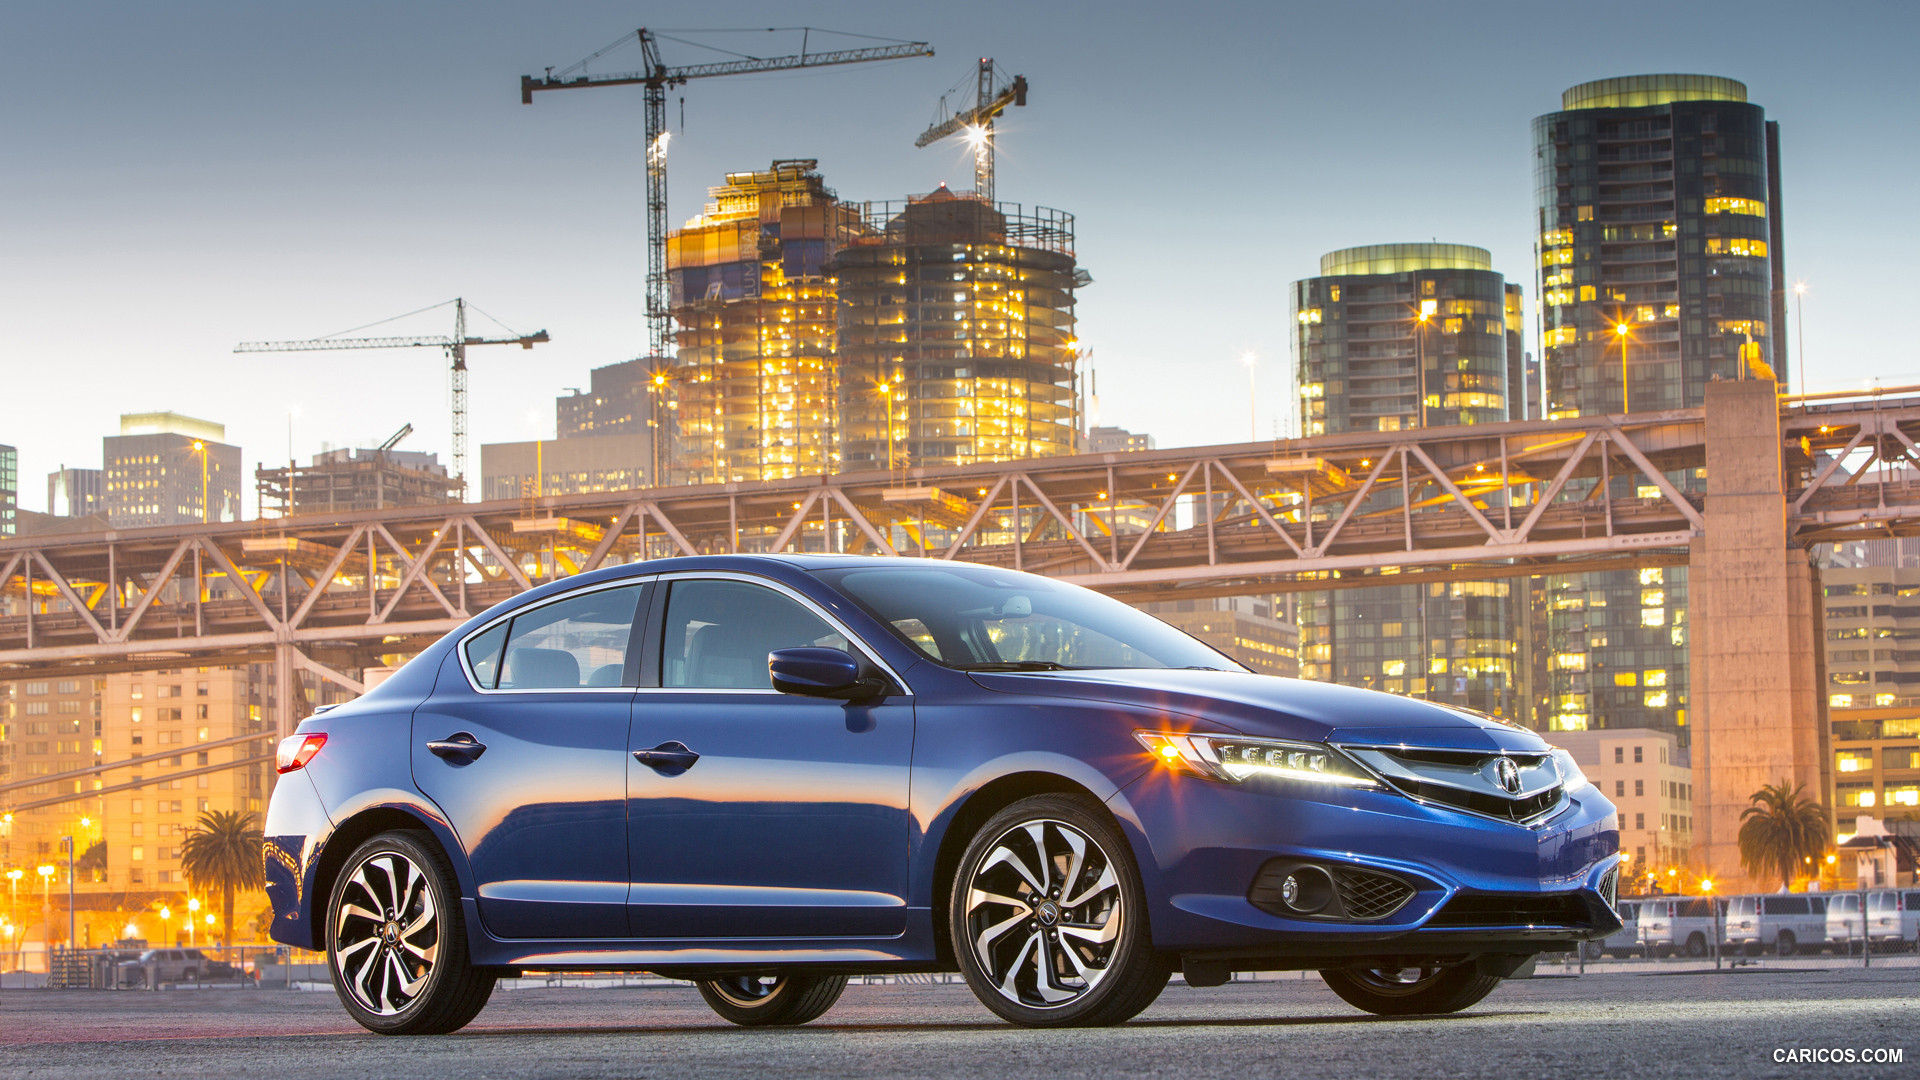Fog Lamp & Scope: (1247, 858, 1414, 920)
Front: (992, 678, 1625, 939)
Front Bumper: (1135, 820, 1629, 938)
Grill: (1367, 742, 1568, 828)
Headlight: (1130, 725, 1375, 793)
